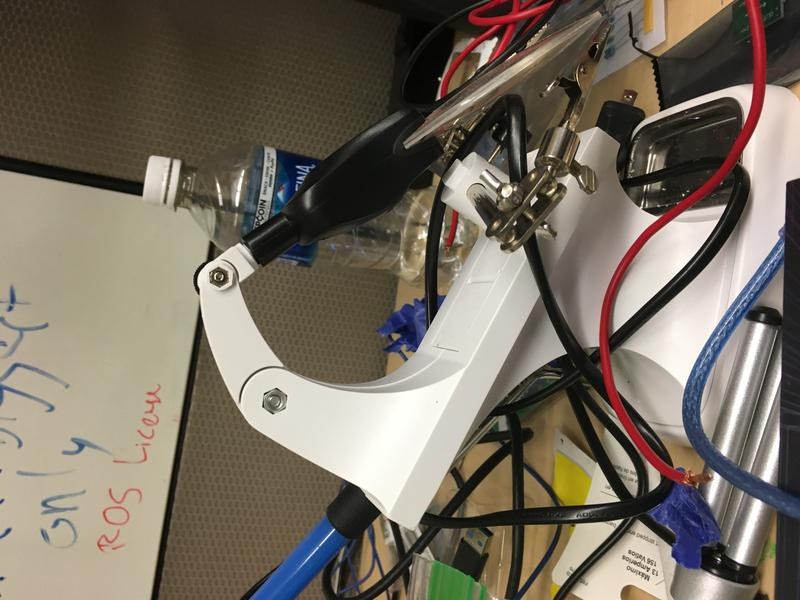bottle: (137, 142, 478, 288)
